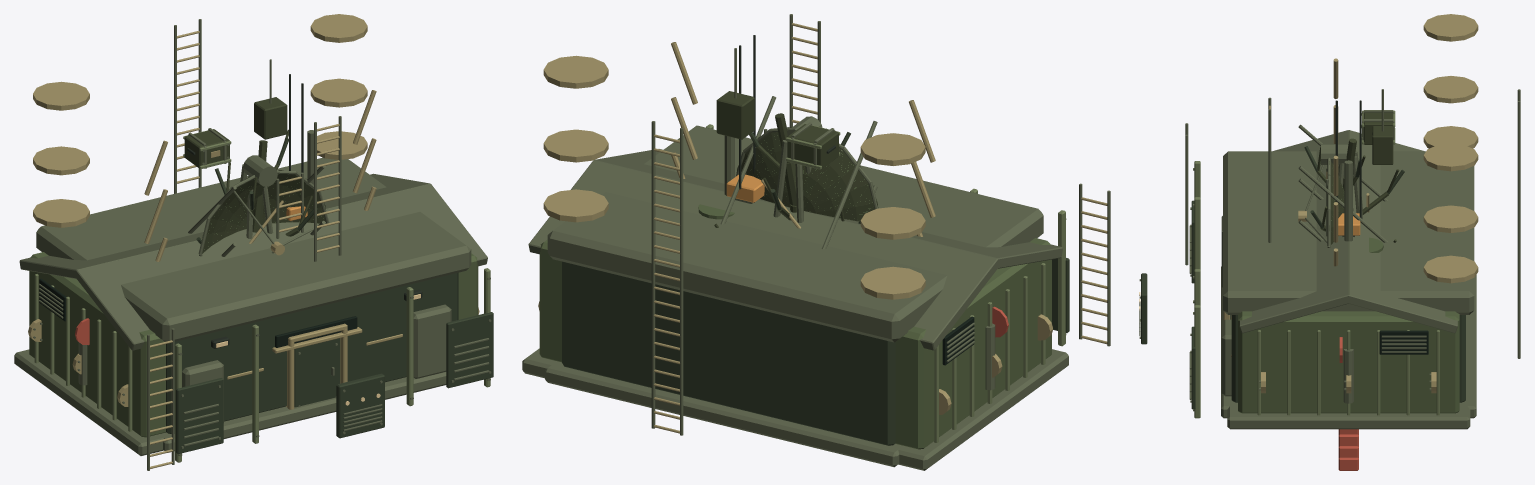
The model's file is world_quality.glb.
The picture shows the model from 3 angles, left to right: view 1: azimuth 30°, elevation 25°; view 2: azimuth 150°, elevation 25°; view 3: azimuth 270°, elevation 25°; orthographic projection. The views are drawn at different scales.
Visible parts, largest first — view 1: BunkerAuthored, BarracksAuthored, detail_factory, satellite_dish, detail_watchtower, detail_refinery, detail_satellite, detail_crane, windmill, detail_water_tower, deadTrees; view 2: BunkerAuthored, BarracksAuthored, detail_factory, detail_refinery, satellite_dish, detail_watchtower, detail_crane, detail_water_tower, windmill, deadTrees; view 3: BarracksAuthored, BunkerAuthored, detail_factory, detail_watchtower, detail_refinery, detail_crane, detail_water_tower, windmill, deadTrees, satellite_dish, pumpjack_arm, detail_satellite.
Part boxes in pixels (bbox=[...]): BunkerAuthored: bbox=[36, 157, 471, 452]; BarracksAuthored: bbox=[14, 173, 487, 455]; detail_factory: bbox=[33, 14, 493, 470]; satellite_dish: bbox=[198, 170, 329, 256]; detail_watchtower: bbox=[183, 59, 341, 261]; detail_refinery: bbox=[28, 19, 479, 406]; detail_satellite: bbox=[336, 373, 384, 438]; detail_crane: bbox=[144, 74, 376, 261]; windmill: bbox=[240, 155, 303, 243]; detail_water_tower: bbox=[307, 116, 341, 261]; deadTrees: bbox=[196, 129, 317, 243]; BunkerAuthored: bbox=[545, 125, 1043, 467]; BarracksAuthored: bbox=[522, 149, 1068, 470]; detail_factory: bbox=[543, 55, 1110, 346]; detail_refinery: bbox=[538, 121, 1052, 435]; satellite_dish: bbox=[736, 127, 878, 221]; detail_watchtower: bbox=[716, 48, 877, 249]; detail_crane: bbox=[671, 35, 935, 236]; detail_water_tower: bbox=[724, 14, 820, 195]; windmill: bbox=[761, 116, 822, 228]; deadTrees: bbox=[714, 113, 860, 227]; BarracksAuthored: bbox=[1227, 130, 1470, 429]; BunkerAuthored: bbox=[1221, 151, 1476, 418]; detail_factory: bbox=[1185, 14, 1478, 418]; detail_watchtower: bbox=[1268, 89, 1395, 242]; detail_refinery: bbox=[1259, 89, 1520, 403]; detail_crane: bbox=[1333, 58, 1361, 266]; detail_water_tower: bbox=[1268, 97, 1352, 242]; windmill: bbox=[1321, 144, 1369, 236]; deadTrees: bbox=[1304, 138, 1404, 242]; satellite_dish: bbox=[1298, 158, 1344, 247]; pumpjack_arm: bbox=[1338, 429, 1358, 470]; detail_satellite: bbox=[1139, 273, 1147, 344].
Size of the model in its own units: 9.67 by 8.45 by 8.95.
Materials: 1 (1 with a texture image).
